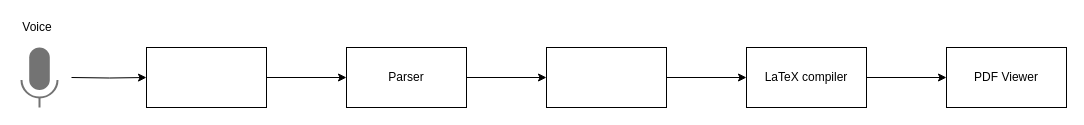
The diagram is 1084 pixels wide and 125 high, and some of its shapes have lost their labels. Each missing label, with the centre of its shape:
LaTeX editor: (x=606, y=77)
Speech recognizer: (x=206, y=77)
